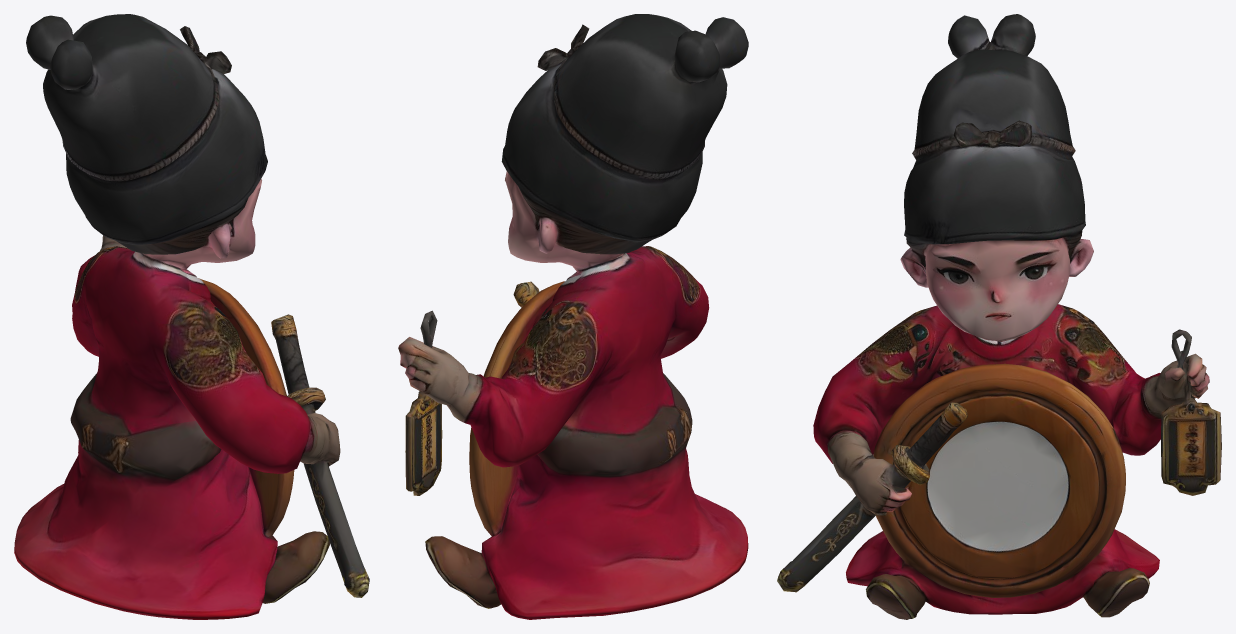
The model's file is n_w20_ming_guard.glb.
The picture shows the model from 3 angles, left to right: view 1: azimuth 30°, elevation 25°; view 2: azimuth 150°, elevation 25°; view 3: azimuth 270°, elevation 25°; orthographic projection. The views are drawn at different scales.
Visible parts, largest first — view 1: tripo_node_1468b58d-c093-464f-bb2c-c00a349c6ab0; view 2: tripo_node_1468b58d-c093-464f-bb2c-c00a349c6ab0; view 3: tripo_node_1468b58d-c093-464f-bb2c-c00a349c6ab0.
Boxes of the visible parts, x1,y1,x2,y2 form: tripo_node_1468b58d-c093-464f-bb2c-c00a349c6ab0: (14,14,369,619); tripo_node_1468b58d-c093-464f-bb2c-c00a349c6ab0: (398,14,748,619); tripo_node_1468b58d-c093-464f-bb2c-c00a349c6ab0: (777,14,1221,619).
Bounding box in the file's own units: 0.4461 × 0.9994 × 0.7579.
1 material, 1 textured.
